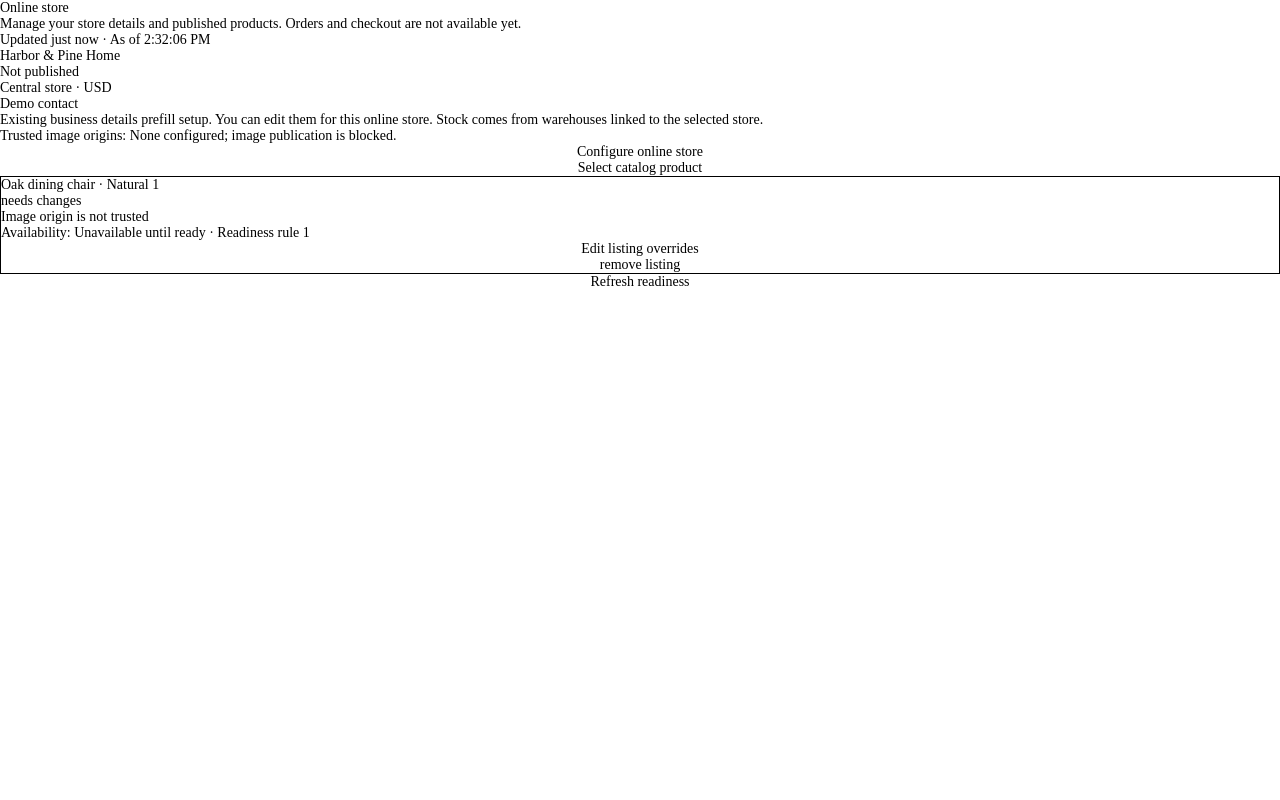
Scenario: native publication foundation shows readiness and opens local configuration without publishing
Expected: the text "Image origin is not trusted" is shown, [1, 209, 149, 224]
Click the button "Configure online store".
click(640, 152)  # box [0, 144, 1279, 160]
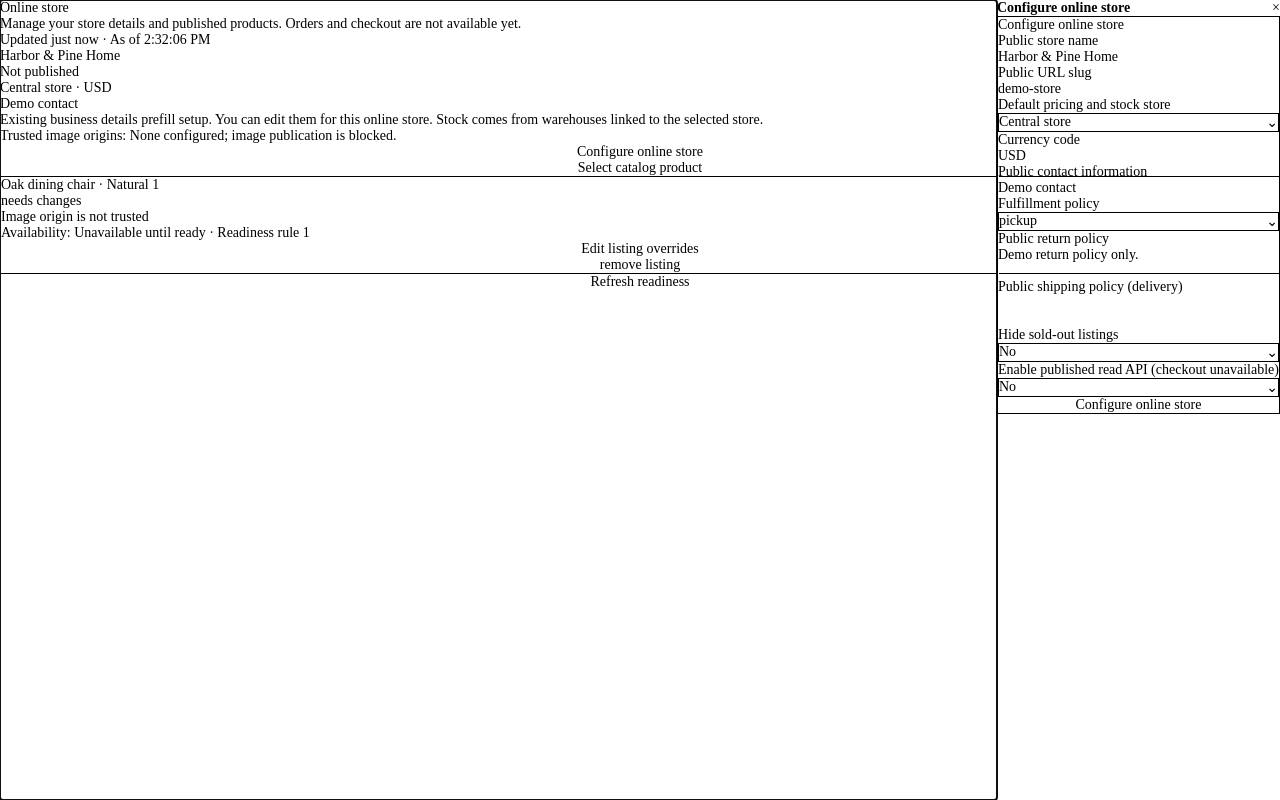
Expected: the text "Public store name" is shown, [998, 33, 1098, 48]
